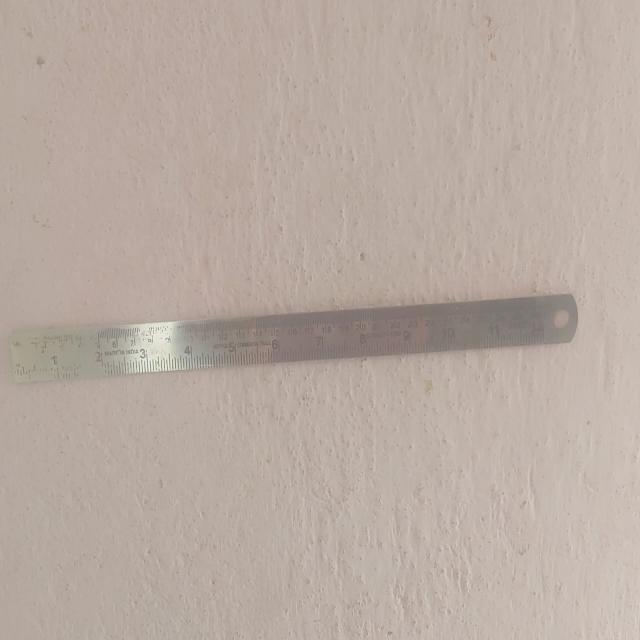scale: (10, 294, 582, 383)
